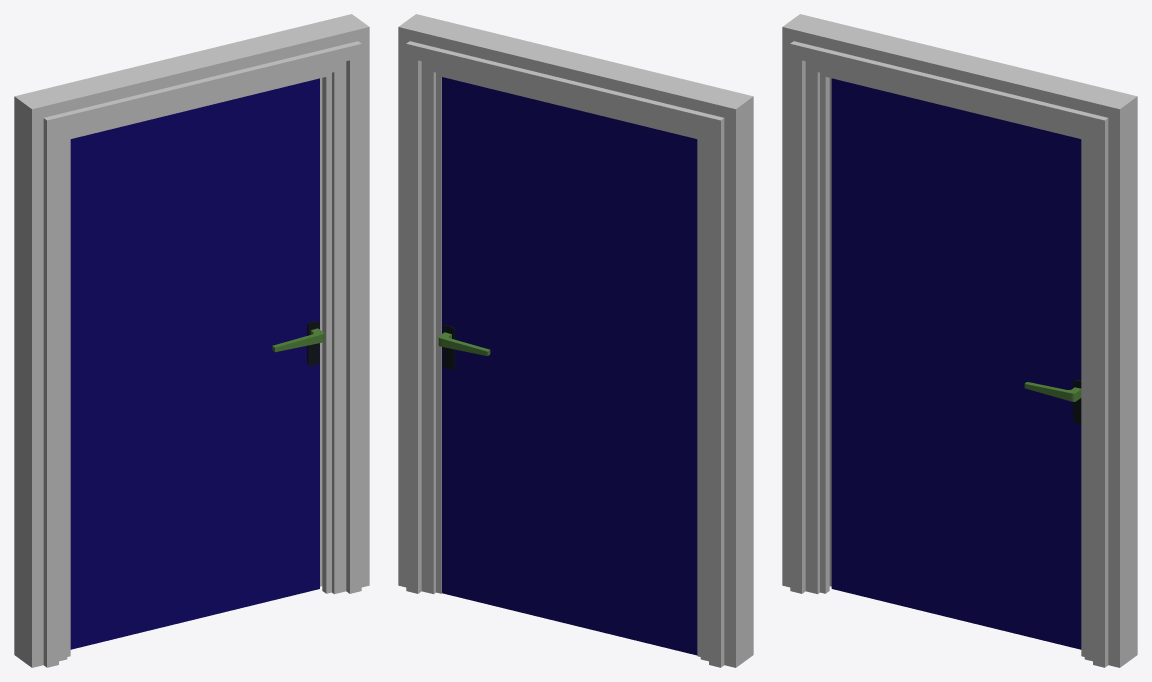
The model's file is door_2_.fbx.
3 views of the same model, side by side, from view 1: azimuth 30°, elevation 25°; view 2: azimuth 150°, elevation 25°; view 3: azimuth 330°, elevation 25° (orthographic).
Parts seen in each view (by area): view 1: Box004, Line001, Box002; view 2: Box004, Line001, Box005; view 3: Box004, Line001, Box002.
Part boxes in pixels (<box>): Box004: <box>70,78,319,649</box>; Line001: <box>14,14,369,667</box>; Box002: <box>272,328,323,352</box>; Box004: <box>442,77,697,655</box>; Line001: <box>398,14,753,667</box>; Box005: <box>438,332,490,355</box>; Box004: <box>831,78,1081,649</box>; Line001: <box>782,14,1137,667</box>; Box002: <box>1024,382,1081,401</box>.
Size of the model in its own units: 121 by 191 by 16.75.
